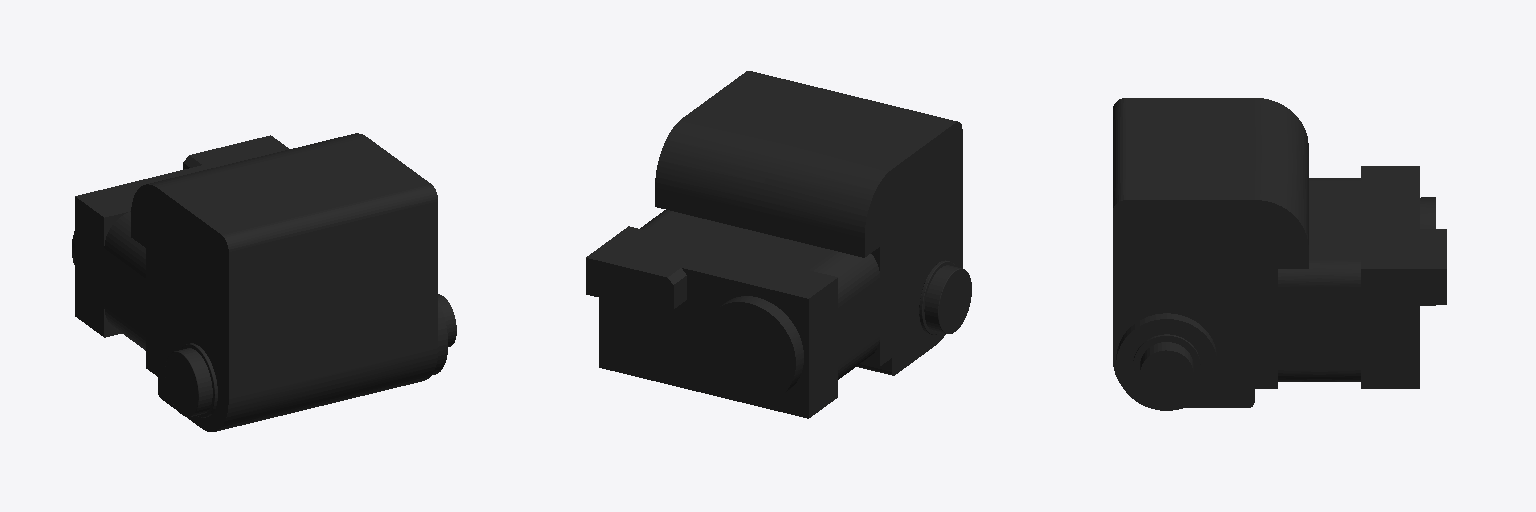
Rendered from link_12.0_left.obj.
The picture shows the model from 3 angles: view 1: azimuth 30°, elevation 25°; view 2: azimuth 150°, elevation 25°; view 3: azimuth 270°, elevation 25°; orthographic projection.
Parts seen in each view (by area): view 1: link_12.0_left; view 2: link_12.0_left; view 3: link_12.0_left.
Boxes of the visible parts, x1=… form: link_12.0_left: x1=72, y1=133, x2=456, y2=431; link_12.0_left: x1=586, y1=71, x2=971, y2=418; link_12.0_left: x1=1113, y1=98, x2=1446, y2=410.
Size of the model in its own units: 0.0447 by 0.034 by 0.0495.